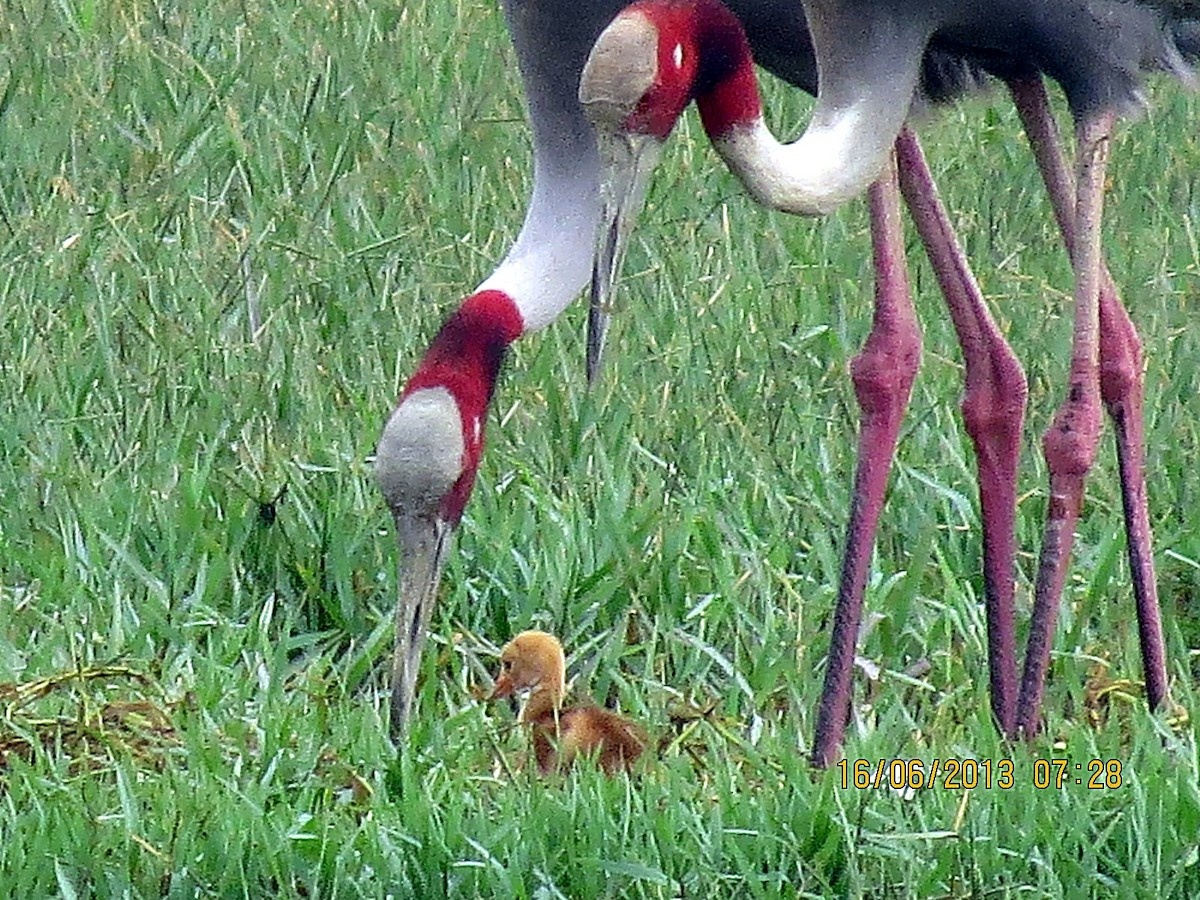crane: (568, 1, 1181, 775), (357, 159, 585, 733)
